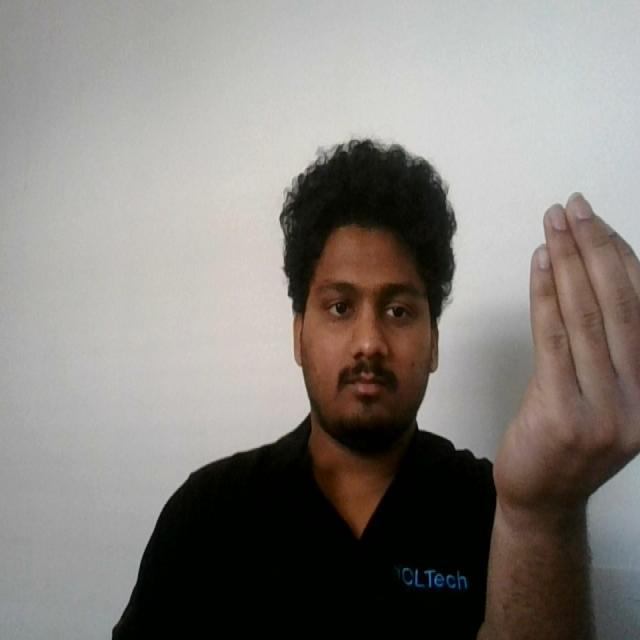Please: (481, 181, 640, 525)
